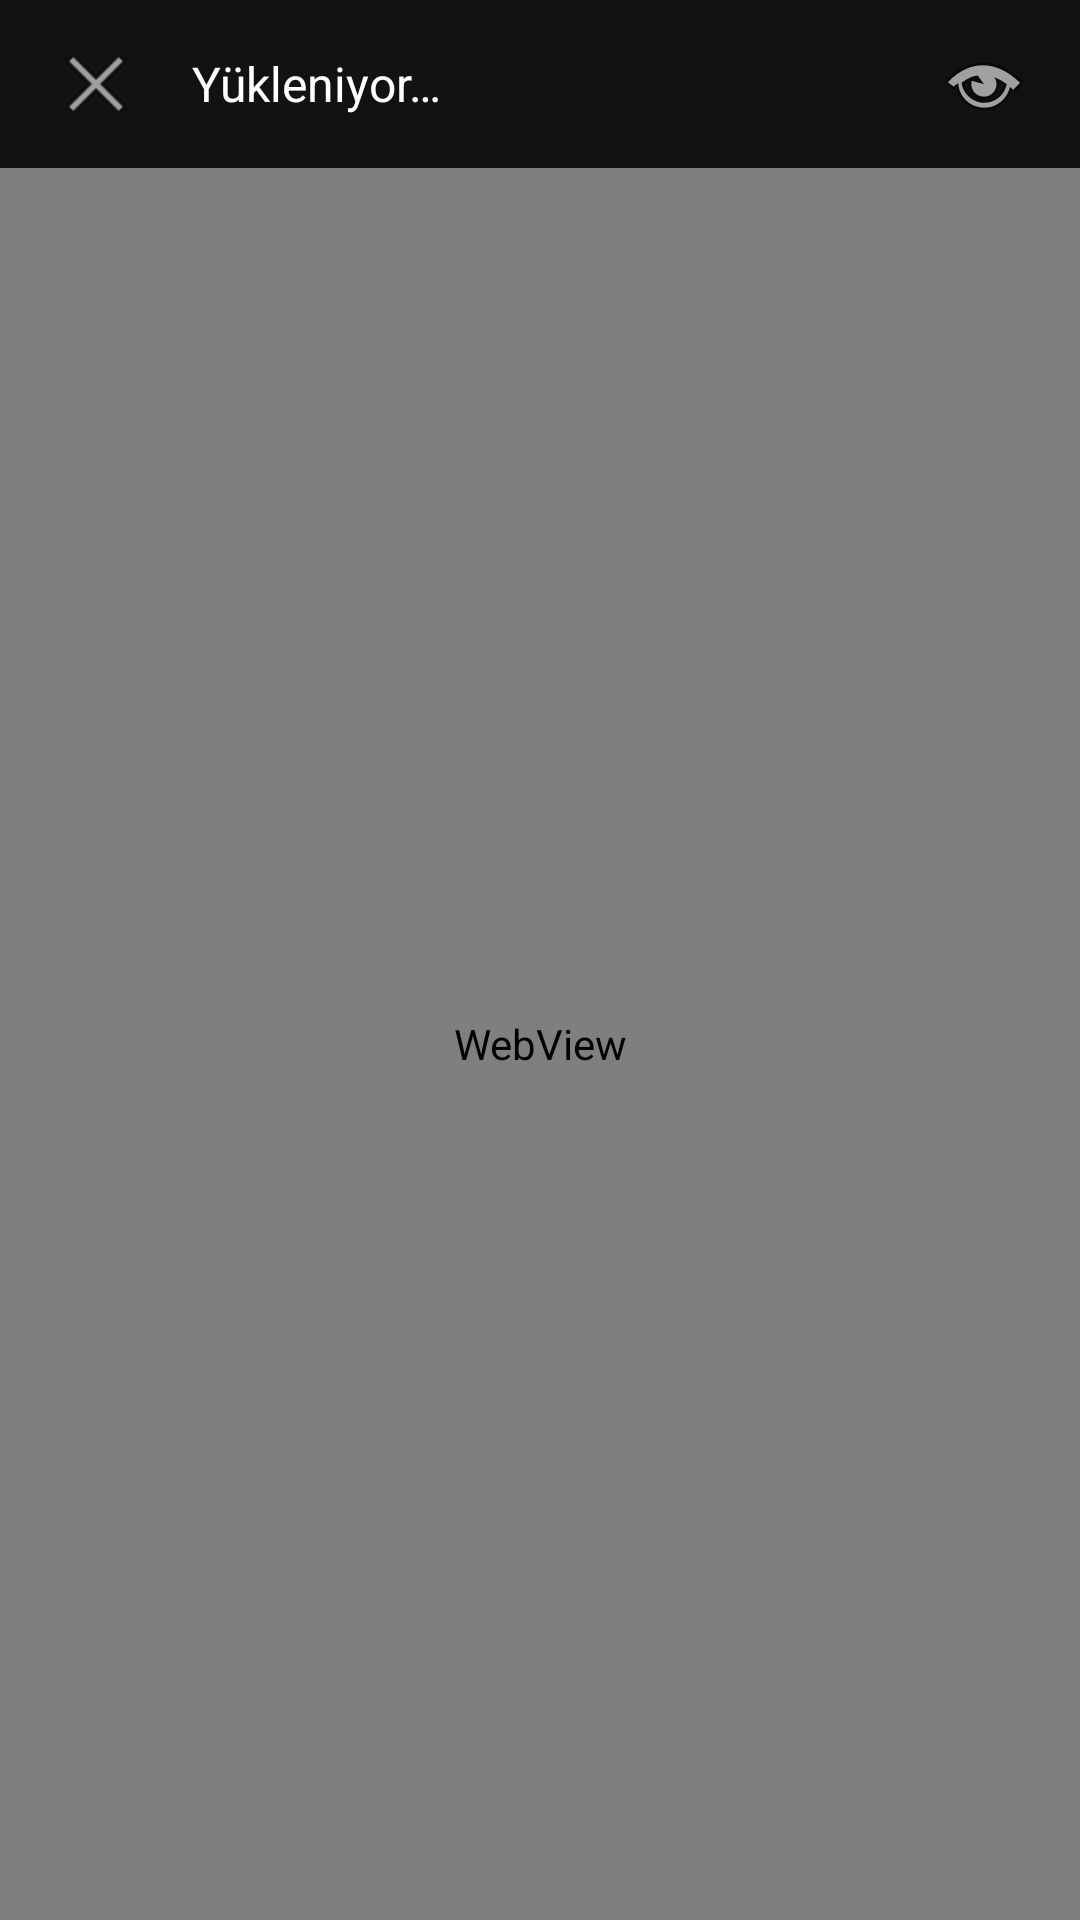

Locate icon controls on the screen. Image size 1080 x 1920, boxes as region(x1, y1, x2, y2).
Kapat: region(69, 57, 123, 111)
